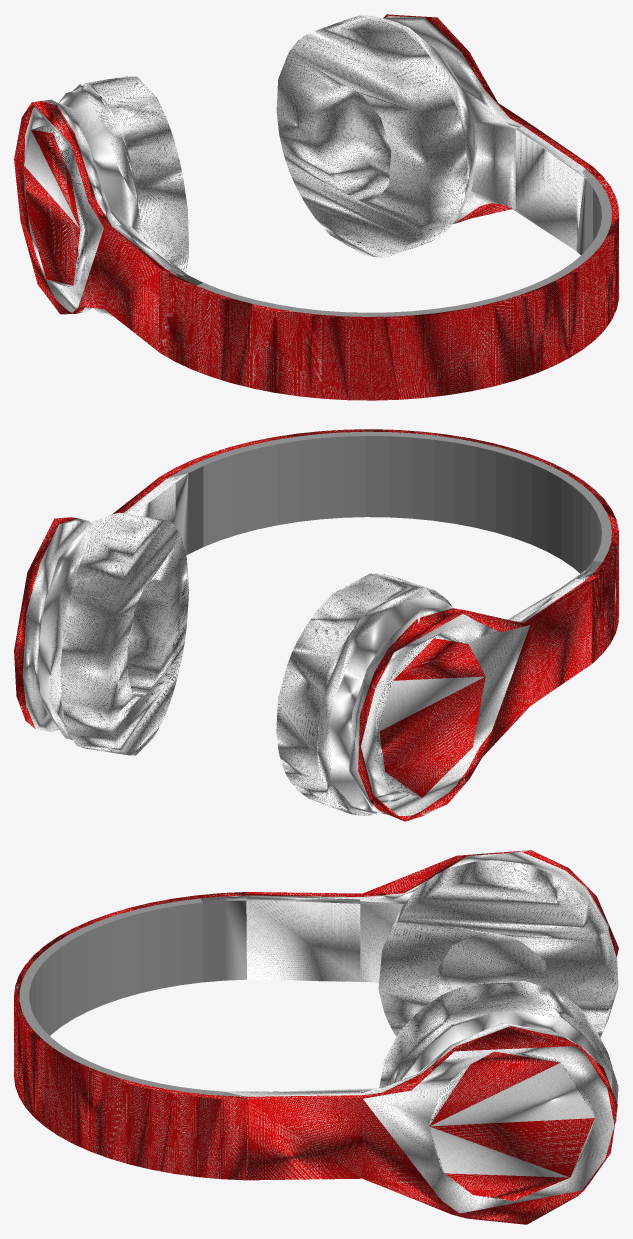
Rendered from model_align.obj.
3 views of the same model, one above another, from view 1: azimuth 30°, elevation 25°; view 2: azimuth 150°, elevation 25°; view 3: azimuth 270°, elevation 25° (orthographic).
Size of the model in its own units: 0.1324 by 0.0631 by 0.1624.
